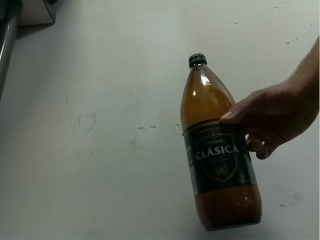pote cristal: (180, 53, 263, 232)
